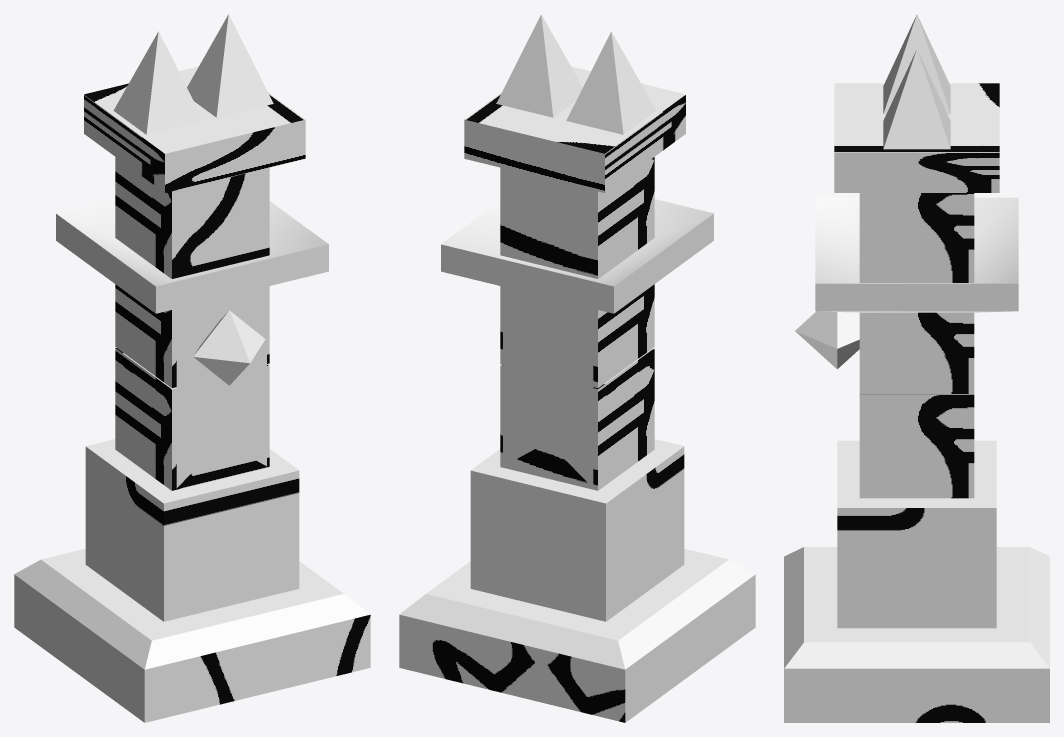
File: Stone Queen.fbx
3 views of the same model, side by side, from view 1: azimuth 30°, elevation 25°; view 2: azimuth 150°, elevation 25°; view 3: azimuth 270°, elevation 25° (orthographic).
Parts seen in each view (by area): view 1: Stone_Queen; view 2: Stone_Queen; view 3: Stone_Queen.
Boxes of the visible parts, box(x1,y1,x2,y2) form: Stone_Queen: box(14, 14, 370, 722); Stone_Queen: box(399, 14, 755, 722); Stone_Queen: box(784, 14, 1049, 722).
Size of the model in its own units: 1 by 2.64 by 1.
